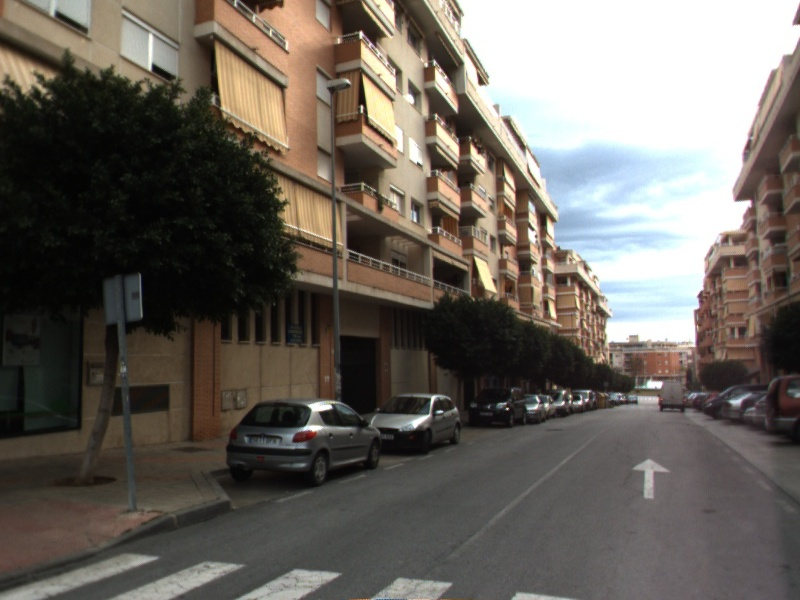STRAIGHT: (630, 456, 673, 500)
